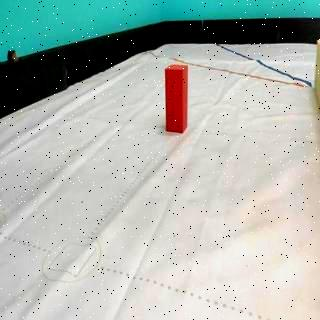redbox: (163, 64, 190, 132)
